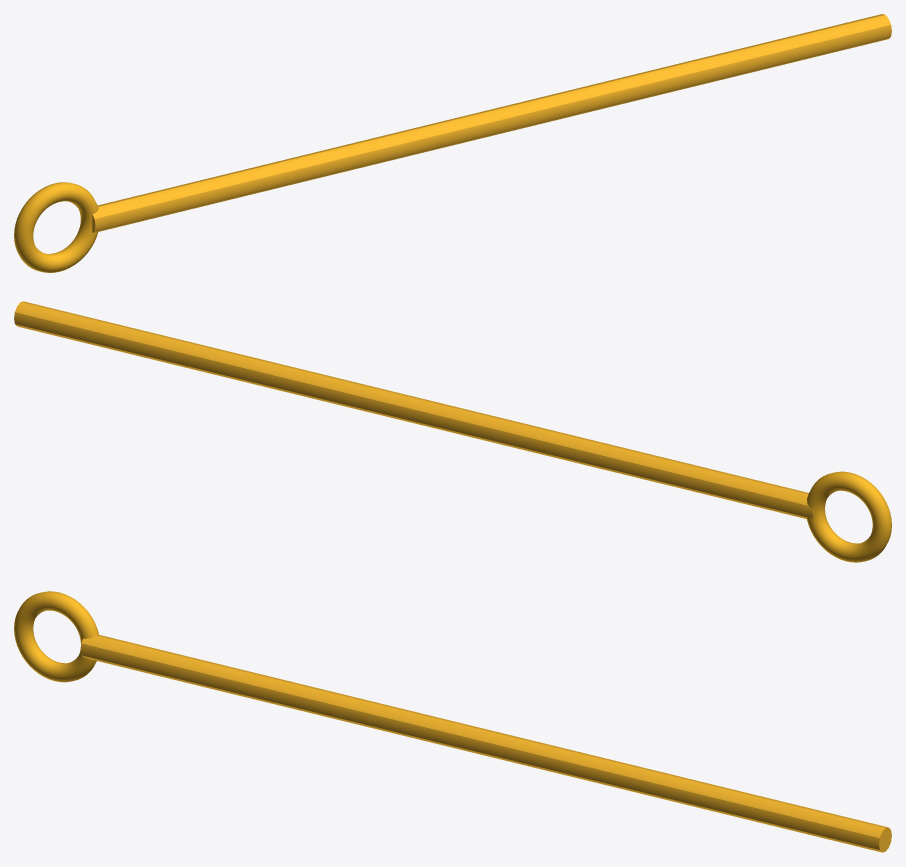
The model's file is Pin.fbx.
3 renders of one model, top to bottom at view 1: azimuth 30°, elevation 25°; view 2: azimuth 150°, elevation 25°; view 3: azimuth 330°, elevation 25°, orthographic.
Visible parts, largest first — view 1: HG__1_, Circle; view 2: HG__1_, Circle; view 3: HG__1_, Circle.
Part boxes in pixels (x1,y1,x2,y2): HG__1_: [92, 14, 891, 232]; Circle: [14, 182, 98, 272]; HG__1_: [14, 301, 813, 518]; Circle: [807, 471, 891, 562]; HG__1_: [80, 635, 891, 852]; Circle: [14, 591, 98, 682].
Size of the model in its own units: 234 by 22.48 by 6.05.
